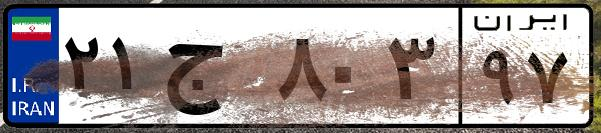0: (330, 28, 385, 110)
1: (110, 28, 158, 98)
2: (57, 26, 110, 100)
3: (385, 28, 445, 110)
7: (525, 38, 570, 115)
8: (270, 28, 330, 110)
9: (475, 38, 525, 113)
ج: (158, 20, 270, 120)
